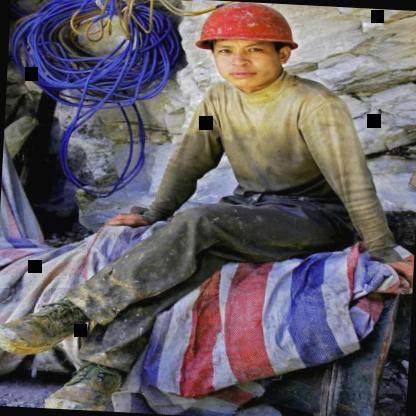helmet: (179, 0, 314, 97)
